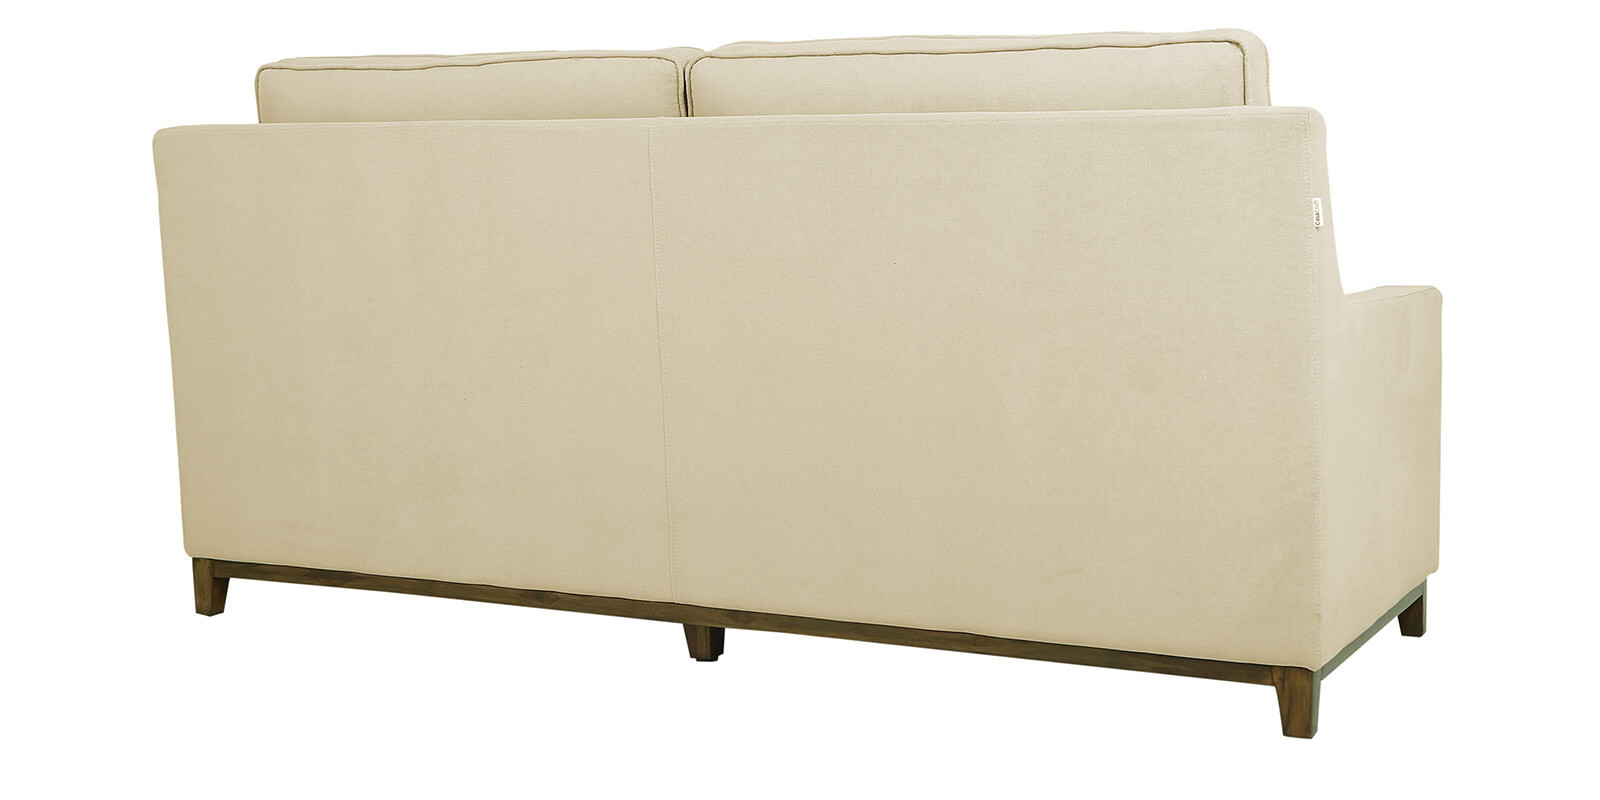Diego Three Seater Sofa in Beige Colour by CasaCraft: (99, 35, 1458, 701)
